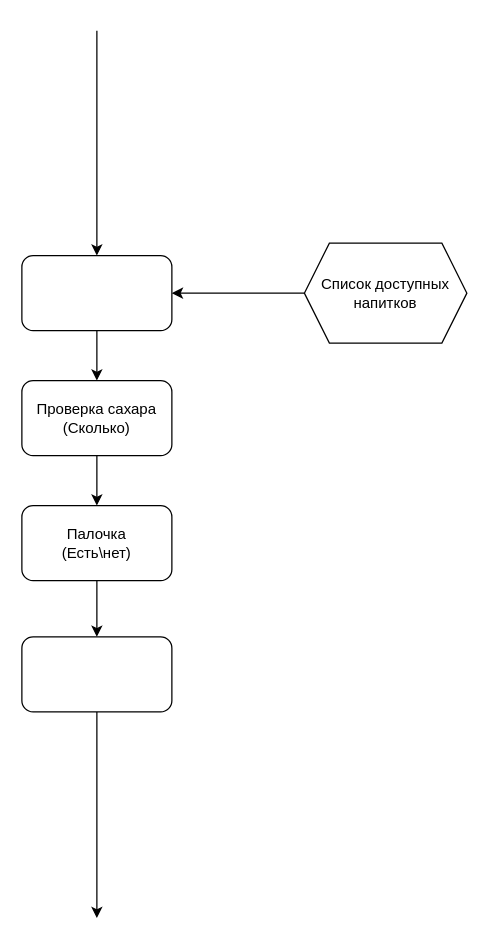
This 489x950 diagram has some shape labels left out. Each missing label, with the box of its shape:
Нажата кнопка выбора напитка: (21, 254, 172, 331)
Подтвержденине Выбора: (21, 636, 172, 712)
